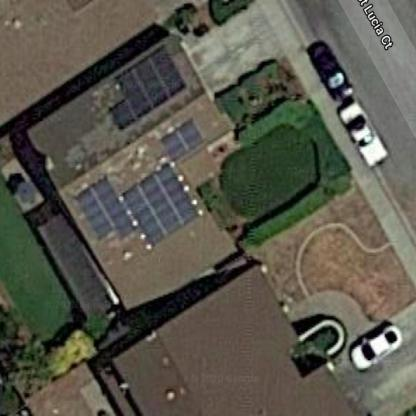car: (330, 100, 395, 176), (340, 311, 406, 371), (302, 38, 360, 98)
solar_panel: (66, 162, 211, 250), (101, 41, 186, 133), (154, 115, 206, 167)
